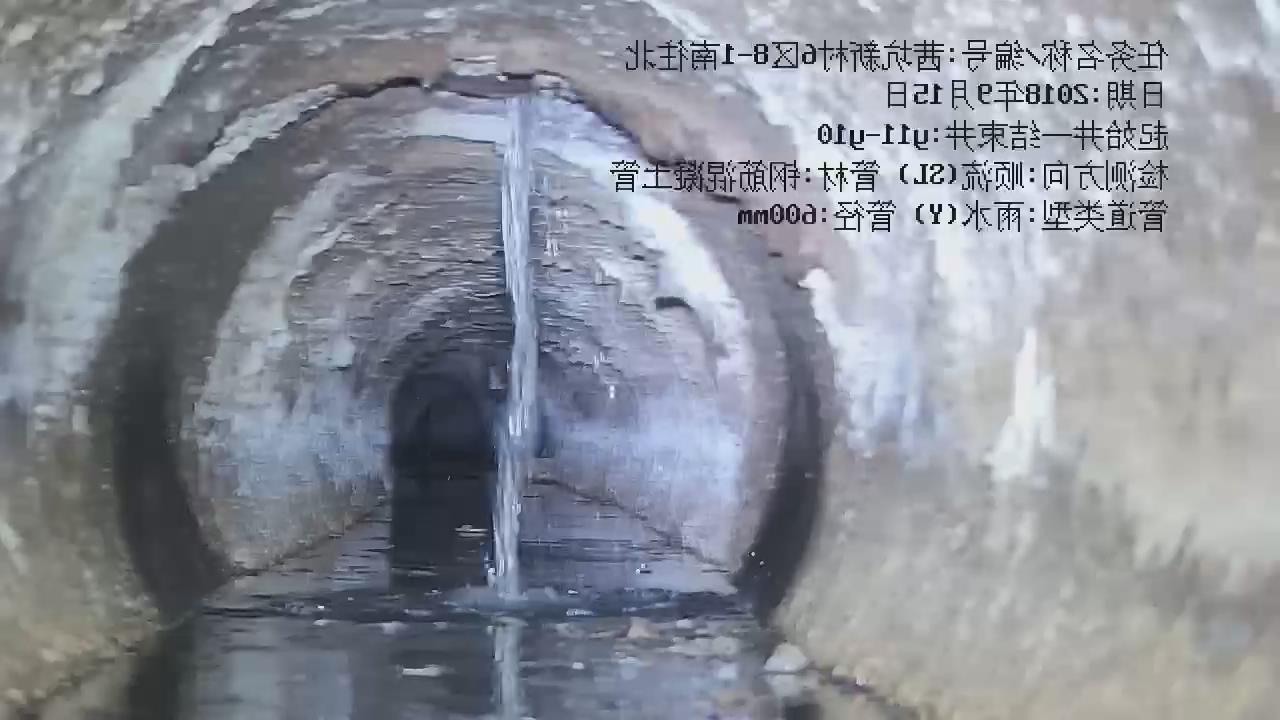JG: (1, 0, 1280, 719)
SL: (436, 81, 574, 630)
